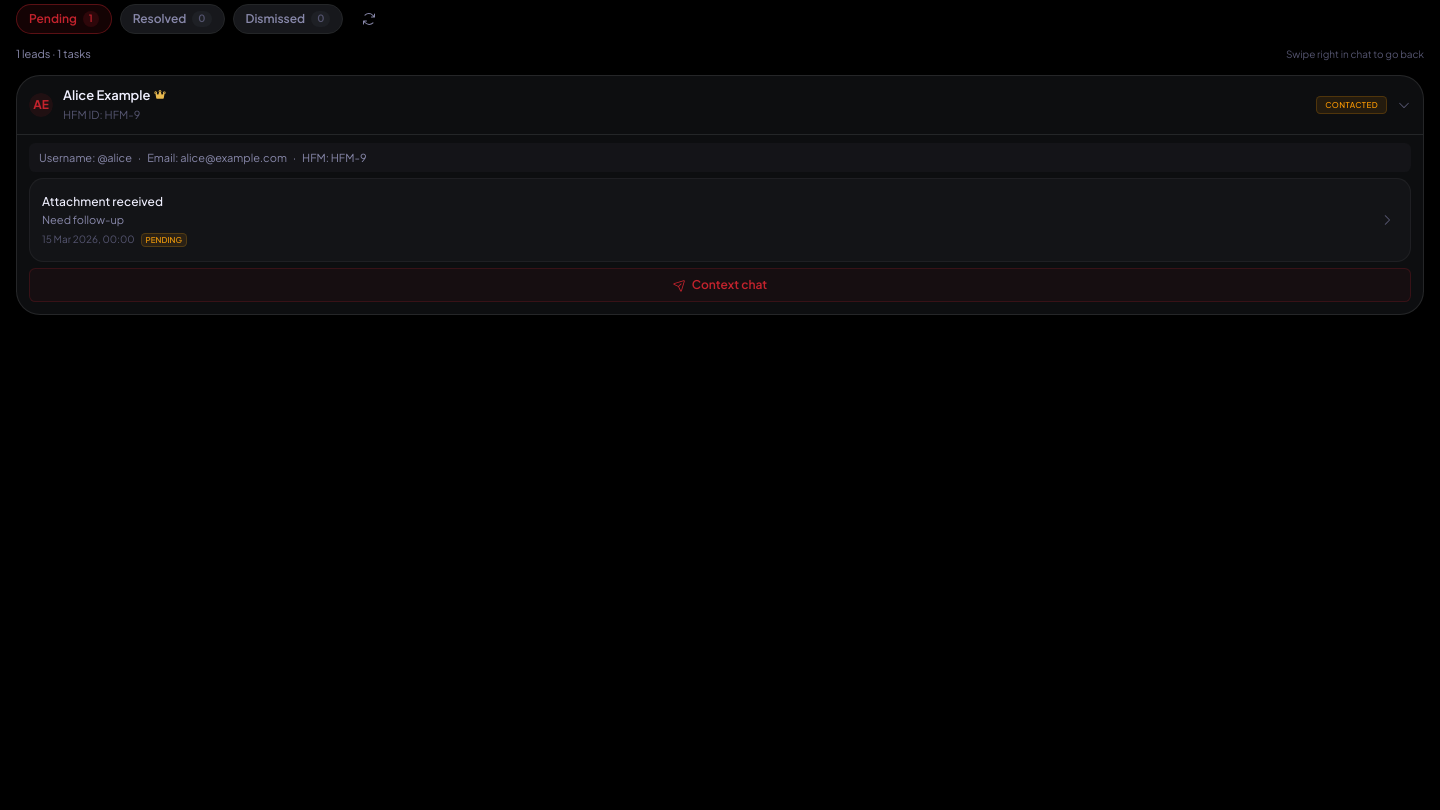
MobilePendingTasks › opens context chat workflow and loads lead interactions
Click the button "Context chat". click: (720, 285)
box: left=29, top=268, right=1411, bottom=302
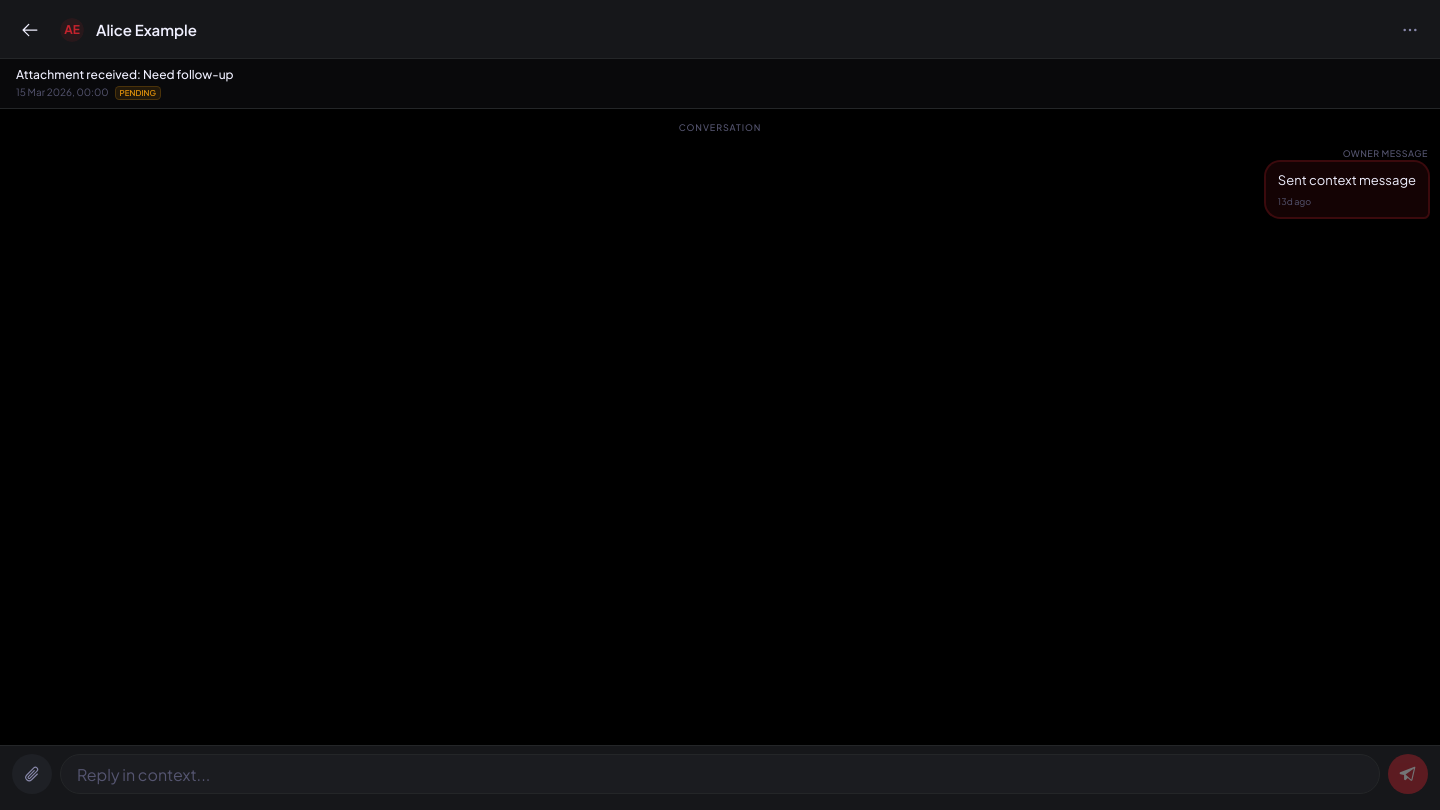
Result: the text "Conversation" is shown at left=679, top=122, right=761, bottom=133
Result: the text "Owner Message" is shown at left=1343, top=148, right=1428, bottom=158
Result: the text "Sent context message" is shown at left=1278, top=170, right=1416, bottom=191
